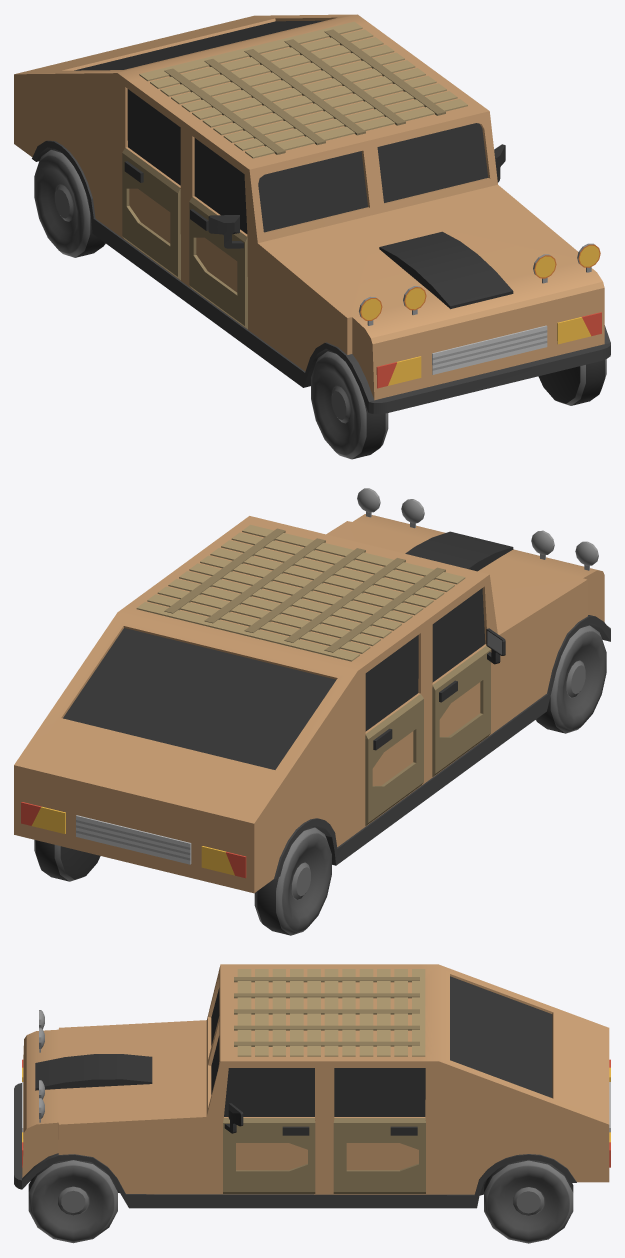
File: jeep03_color01.fbx
3 views of the same model, one above another, from view 1: azimuth 30°, elevation 25°; view 2: azimuth 150°, elevation 25°; view 3: azimuth 270°, elevation 25° (orthographic). The views are drawn at different scales.
Visible parts, largest first — view 1: Plane.033, Plane.017, Plane.034, Plane.015; view 2: Plane.033, Plane.034, Plane.017, Plane.016; view 3: Plane.033, Plane.016, Plane.015.
Boxes of the visible parts, x1,y1,x2,y2 form: Plane.033: (14, 14, 610, 413); Plane.017: (311, 350, 388, 459); Plane.034: (34, 149, 105, 257); Plane.015: (538, 359, 606, 405); Plane.033: (14, 488, 610, 893); Plane.034: (254, 826, 331, 935); Plane.017: (536, 624, 606, 733); Plane.016: (34, 840, 100, 881); Plane.033: (14, 964, 610, 1208); Plane.016: (484, 1159, 573, 1243); Plane.015: (28, 1160, 117, 1243).
Bounding box in the file's own units: 269 × 193 × 568.
